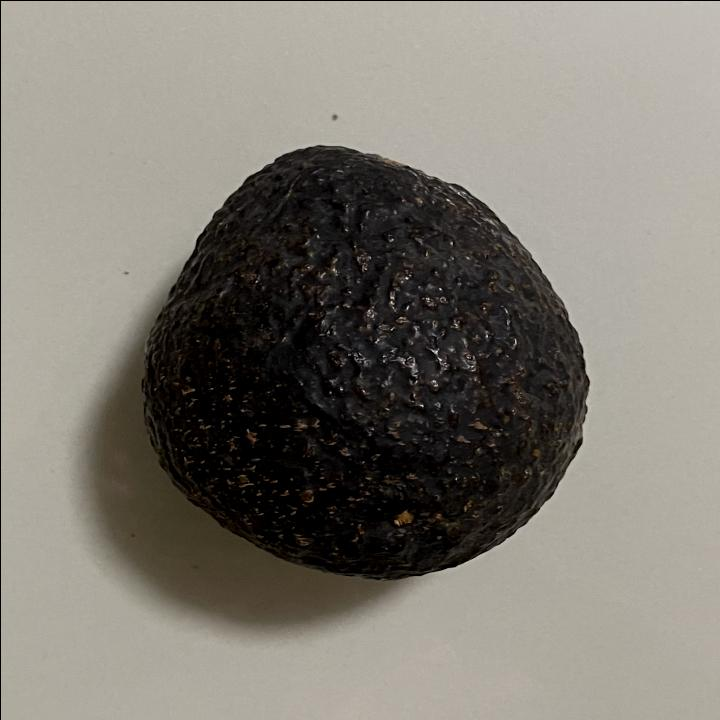Level3: (128, 132, 604, 588)
